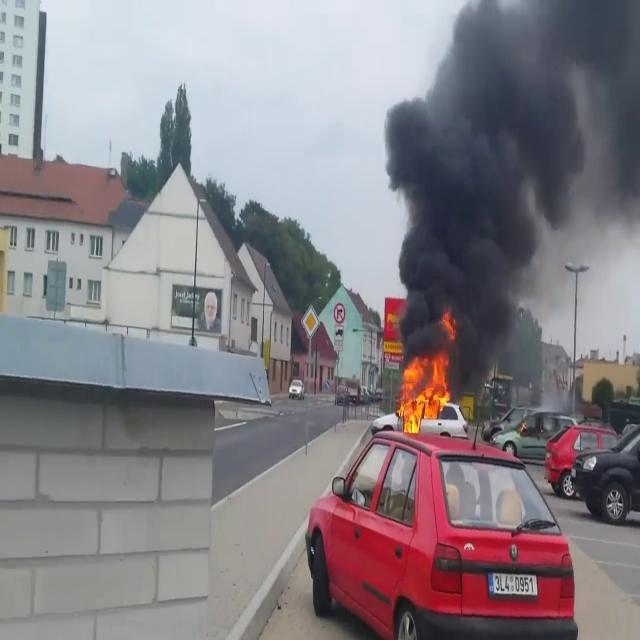Fire: (396, 350, 456, 436)
Smoke: (380, 0, 640, 358)
